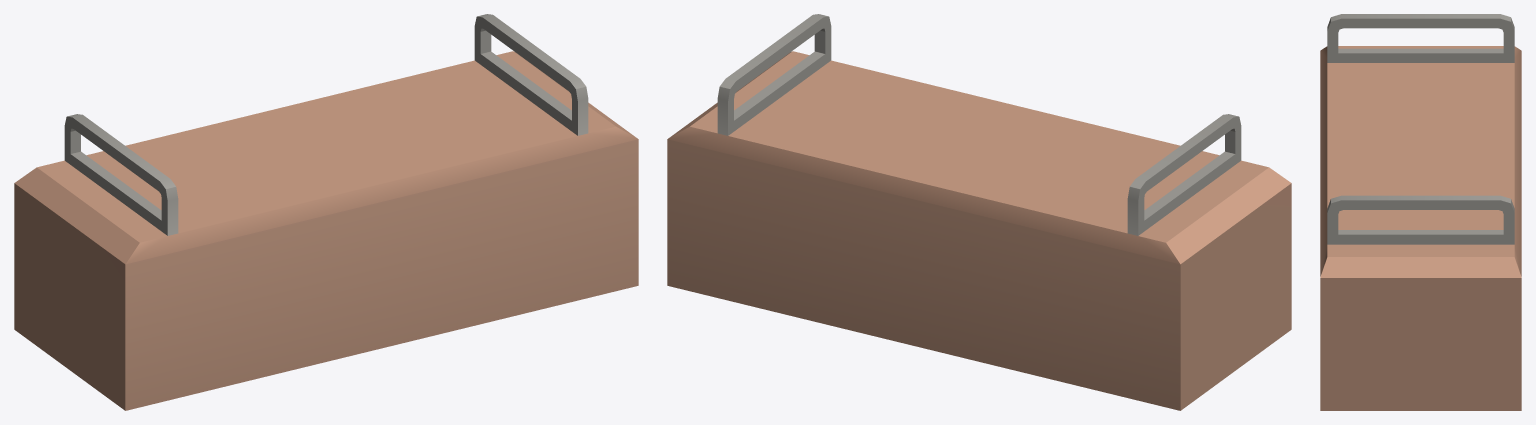
The model's file is Chair.fbx.
The picture shows the model from 3 angles, left to right: view 1: azimuth 30°, elevation 25°; view 2: azimuth 150°, elevation 25°; view 3: azimuth 270°, elevation 25°; orthographic projection. The views are drawn at different scales.
Parts seen in each view (by area): view 1: Box158; view 2: Box158; view 3: Box158.
Boxes of the visible parts, left/top/right/bottom form: Box158: left=14, top=14, right=638, bottom=410; Box158: left=667, top=14, right=1291, bottom=410; Box158: left=1320, top=14, right=1521, bottom=410.
Size of the model in its own units: 207 by 80.86 by 77.68.
1 material, 1 textured.
